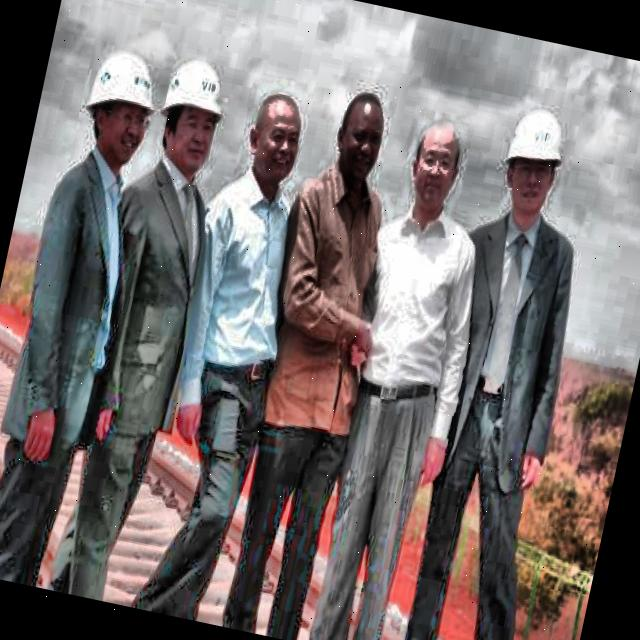helmet: (72, 43, 171, 178), (146, 49, 237, 179), (491, 101, 568, 224)
